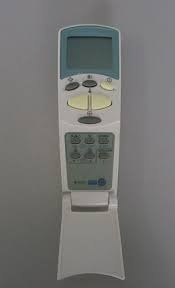remote control: (58, 23, 125, 212)
